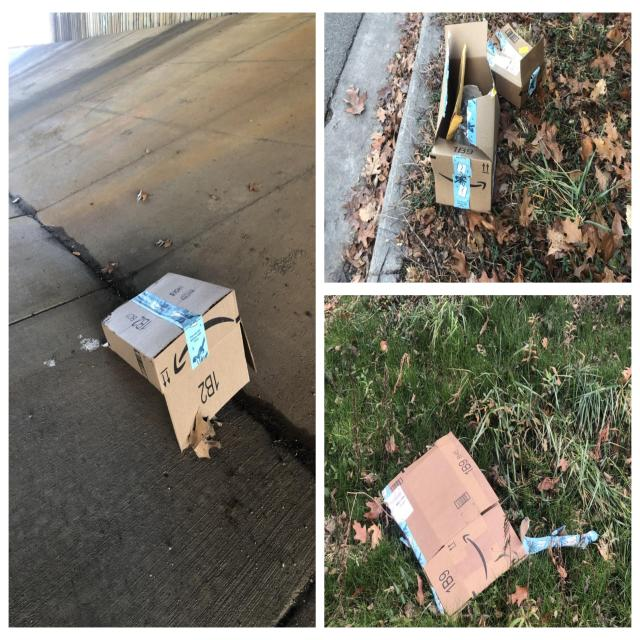Garbage: (96, 264, 267, 455), (379, 428, 533, 618), (424, 15, 502, 226), (484, 22, 549, 112)
